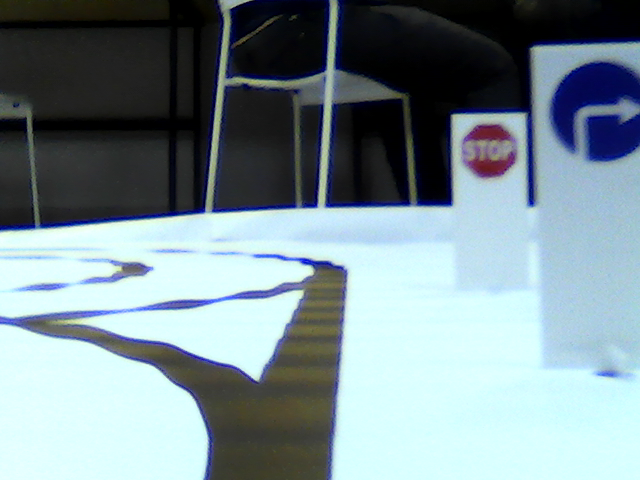Right: (549, 60, 638, 162)
